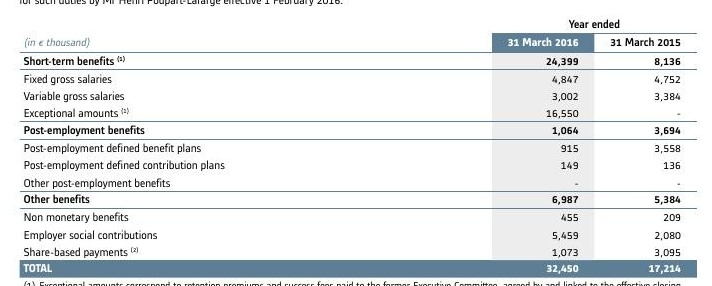table: (0, 0, 712, 286)
